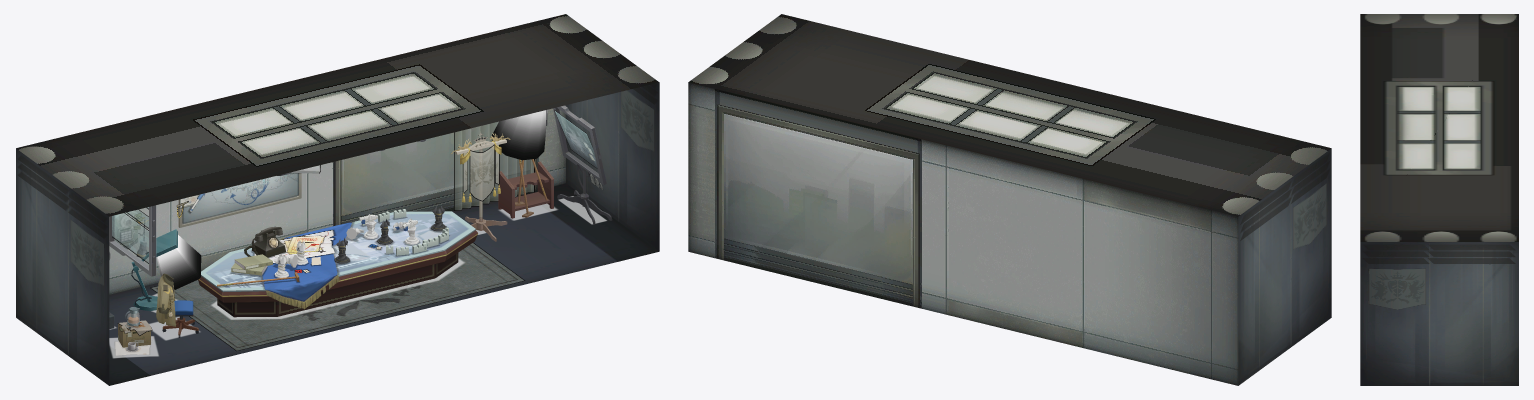
The model's file is vcWarRoom.glb.
3 views of the same model, side by side, from view 1: azimuth 30°, elevation 25°; view 2: azimuth 150°, elevation 25°; view 3: azimuth 270°, elevation 25° (orthographic). The views are drawn at different scales.
Visible parts, largest first — view 1: ROOM_room, ROOM_floor, furni_vcWarRoom_table_01, furni_vcWarRoom_carpet_01, furni_vcWarRoom_table_02, furni_vcWarRoom_tacticalBoard_01, furni_vcWarRoom_curtain_01, furni_vcWarRoom_pushRod_01, furni_vcWarRoom_ceilingLamp_light_01, furni_vcWarRoom_board_01, ROOM_RDoor, ROOM_LDoor (+13 smaller); view 2: ROOM_room, ROOM_LDoor; view 3: ROOM_room, ROOM_RDoor.
Part boxes in pixels (x1,y1,x2,y2): ROOM_room: [16, 14, 659, 385]; ROOM_floor: [109, 183, 658, 385]; furni_vcWarRoom_table_01: [198, 206, 477, 317]; furni_vcWarRoom_carpet_01: [150, 242, 525, 351]; furni_vcWarRoom_table_02: [254, 221, 381, 309]; furni_vcWarRoom_tacticalBoard_01: [178, 173, 301, 227]; furni_vcWarRoom_curtain_01: [454, 121, 534, 210]; furni_vcWarRoom_pushRod_01: [498, 159, 553, 218]; furni_vcWarRoom_ceilingLamp_light_01: [492, 110, 547, 160]; furni_vcWarRoom_board_01: [553, 105, 612, 224]; ROOM_RDoor: [626, 151, 645, 241]; ROOM_LDoor: [76, 285, 95, 375]; ROOM_room: [688, 14, 1331, 385]; ROOM_LDoor: [1299, 251, 1317, 341]; ROOM_room: [1360, 14, 1518, 385]; ROOM_RDoor: [1383, 320, 1416, 385].
Size of the model in its own units: 7.49 by 2.2 by 2.21.
8 materials, 8 textured.
